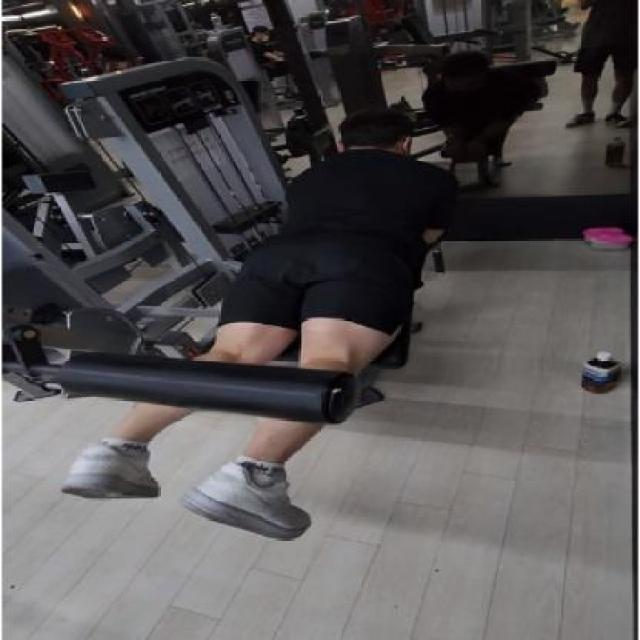reg curl machine: (2, 56, 496, 544)
